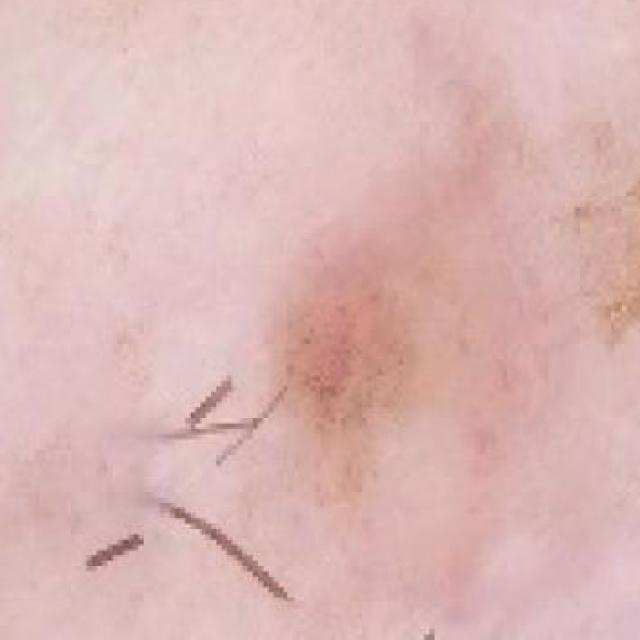AKIEC: (156, 0, 640, 603)
